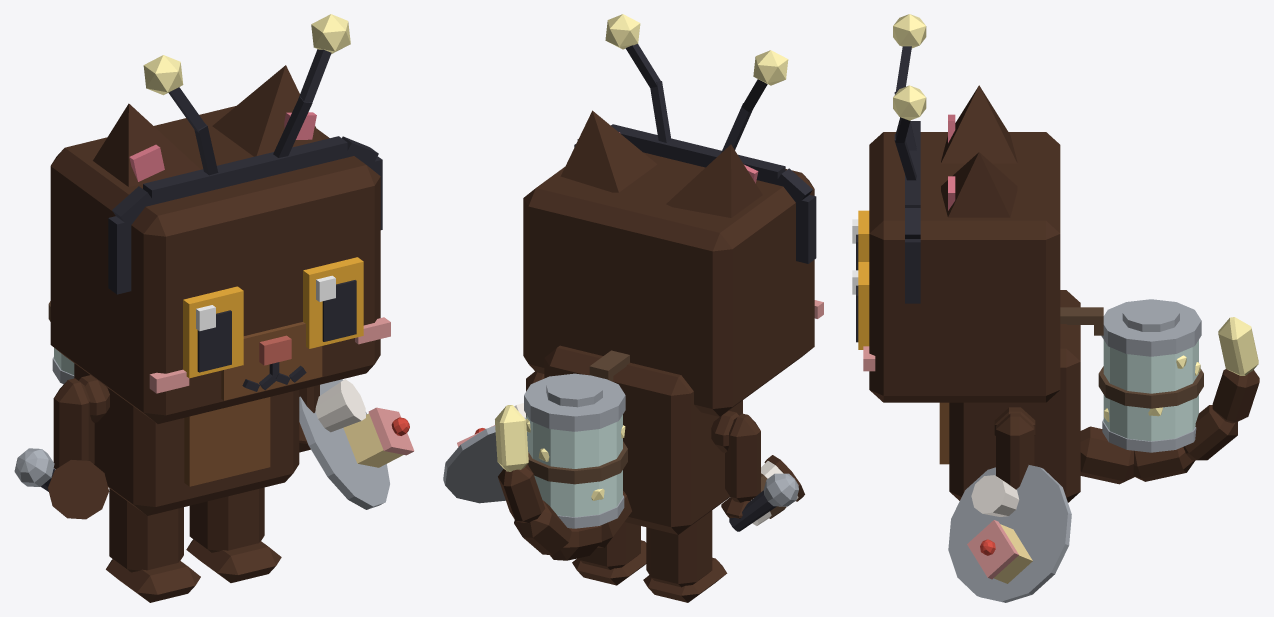
The model's file is CatCafe_Cat_Firefly_Work.glb.
The picture shows the model from 3 angles, left to right: view 1: azimuth 30°, elevation 25°; view 2: azimuth 150°, elevation 25°; view 3: azimuth 270°, elevation 25°; orthographic projection. The views are drawn at different scales.
Parts seen in each view (by area): view 1: CatCafe_Cat_Firefly_Work_Head, CatCafe_Cat_Firefly_Work_Body, CatCafe_Cat_Firefly_Work_Prop2, CatCafe_Cat_Firefly_Work_Held_Waiter, CatCafe_Cat_Firefly_Work_LegB2, CatCafe_Cat_Firefly_Work_LegB1, CatCafe_Cat_Firefly_Work_Eye2, CatCafe_Cat_Firefly_Work_Eye1, CatCafe_Cat_Firefly_Work_EarL, CatCafe_Cat_Firefly_Work_EarR, CatCafe_Cat_Firefly_Work_LegF2, CatCafe_Cat_Firefly_Work_Held_Barista (+3 smaller); view 2: CatCafe_Cat_Firefly_Work_Head, CatCafe_Cat_Firefly_Work_Body, CatCafe_Cat_Firefly_Work_Prop, CatCafe_Cat_Firefly_Work_Tail, CatCafe_Cat_Firefly_Work_Prop2, CatCafe_Cat_Firefly_Work_Prop_Glass, CatCafe_Cat_Firefly_Work_LegB2, CatCafe_Cat_Firefly_Work_EarL, CatCafe_Cat_Firefly_Work_EarR, CatCafe_Cat_Firefly_Work_Held_Waiter, CatCafe_Cat_Firefly_Work_LegF2, CatCafe_Cat_Firefly_Work_LegB1 (+3 smaller); view 3: CatCafe_Cat_Firefly_Work_Head, CatCafe_Cat_Firefly_Work_Held_Waiter, CatCafe_Cat_Firefly_Work_Body, CatCafe_Cat_Firefly_Work_Tail, CatCafe_Cat_Firefly_Work_Prop, CatCafe_Cat_Firefly_Work_Prop_Glass, CatCafe_Cat_Firefly_Work_Prop2, CatCafe_Cat_Firefly_Work_EarR, CatCafe_Cat_Firefly_Work_EarL, CatCafe_Cat_Firefly_Work_LegF1, CatCafe_Cat_Firefly_Work_Tip_Glow, CatCafe_Cat_Firefly_Work_Eye1 (+1 smaller).
Part boxes in pixels (left/top/right/bottom): CatCafe_Cat_Firefly_Work_Head: left=50, top=106, right=390, bottom=423; CatCafe_Cat_Firefly_Work_Body: left=74, top=363, right=299, bottom=515; CatCafe_Cat_Firefly_Work_Prop2: left=108, top=49, right=382, bottom=294; CatCafe_Cat_Firefly_Work_Held_Waiter: left=299, top=379, right=414, bottom=509; CatCafe_Cat_Firefly_Work_LegB2: left=106, top=488, right=200, bottom=602; CatCafe_Cat_Firefly_Work_LegB1: left=186, top=487, right=281, bottom=582; CatCafe_Cat_Firefly_Work_Eye2: left=183, top=286, right=243, bottom=378; CatCafe_Cat_Firefly_Work_Eye1: left=303, top=257, right=363, bottom=348; CatCafe_Cat_Firefly_Work_EarL: left=212, top=65, right=321, bottom=156; CatCafe_Cat_Firefly_Work_EarR: left=93, top=103, right=200, bottom=186; CatCafe_Cat_Firefly_Work_LegF2: left=53, top=378, right=94, bottom=469; CatCafe_Cat_Firefly_Work_Held_Barista: left=48, top=460, right=109, bottom=519; CatCafe_Cat_Firefly_Work_Head: left=523, top=152, right=823, bottom=416; CatCafe_Cat_Firefly_Work_Body: left=544, top=345, right=742, bottom=534; CatCafe_Cat_Firefly_Work_Prop: left=524, top=350, right=629, bottom=528; CatCafe_Cat_Firefly_Work_Tail: left=495, top=405, right=631, bottom=560; CatCafe_Cat_Firefly_Work_Prop2: left=574, top=44, right=816, bottom=263; CatCafe_Cat_Firefly_Work_Prop_Glass: left=526, top=414, right=622, bottom=517; CatCafe_Cat_Firefly_Work_LegB2: left=643, top=510, right=727, bottom=602; CatCafe_Cat_Firefly_Work_EarL: left=560, top=110, right=657, bottom=192; CatCafe_Cat_Firefly_Work_EarR: left=666, top=144, right=762, bottom=217; CatCafe_Cat_Firefly_Work_Held_Waiter: left=443, top=403, right=526, bottom=503; CatCafe_Cat_Firefly_Work_LegF2: left=721, top=413, right=760, bottom=518; CatCafe_Cat_Firefly_Work_LegB1: left=572, top=522, right=646, bottom=585; CatCafe_Cat_Firefly_Work_Head: left=863, top=132, right=1060, bottom=402; CatCafe_Cat_Firefly_Work_Held_Waiter: left=948, top=465, right=1071, bottom=602; CatCafe_Cat_Firefly_Work_Body: left=939, top=290, right=1080, bottom=502; CatCafe_Cat_Firefly_Work_Tail: left=1080, top=317, right=1259, bottom=484; CatCafe_Cat_Firefly_Work_Prop: left=1060, top=299, right=1203, bottom=452; CatCafe_Cat_Firefly_Work_Prop_Glass: left=1103, top=340, right=1198, bottom=441; CatCafe_Cat_Firefly_Work_Prop2: left=894, top=46, right=920, bottom=303; CatCafe_Cat_Firefly_Work_EarR: left=941, top=85, right=1017, bottom=163; CatCafe_Cat_Firefly_Work_EarL: left=941, top=152, right=1017, bottom=217; CatCafe_Cat_Firefly_Work_LegF1: left=996, top=413, right=1034, bottom=489; CatCafe_Cat_Firefly_Work_Tip_Glow: left=893, top=14, right=926, bottom=120; CatCafe_Cat_Firefly_Work_Eye1: left=852, top=262, right=869, bottom=349.
Bounding box in the file's own units: 1.53 × 2.23 × 1.62.
Materials: 1 (1 with a texture image).
